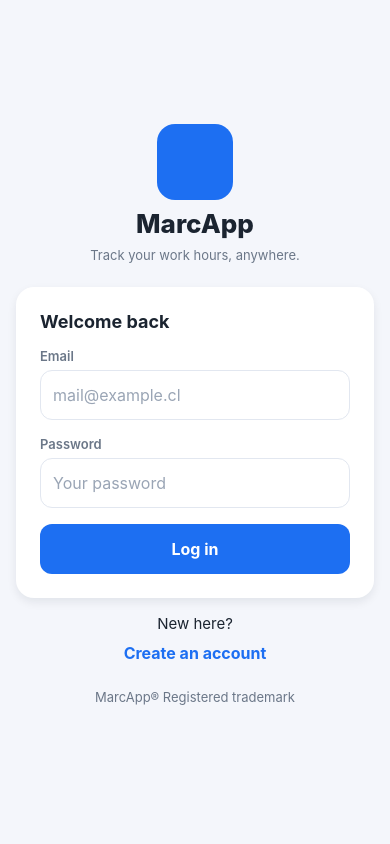
Login › rechaza un correo con formato inválido
In the field with placeholder "mail@example.cl": coordinates (195, 394) 53,374 -> 337,414, type "sin-arroba"
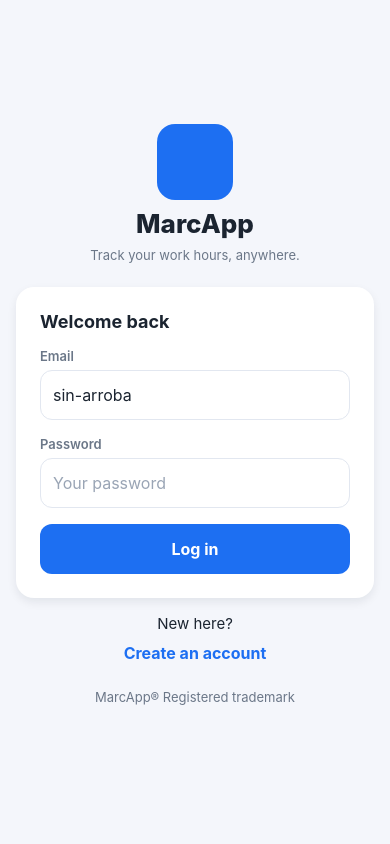
In the password field with placeholder "Your password": coordinates (191, 482) 53,462 -> 329,502, type "Clave12345"
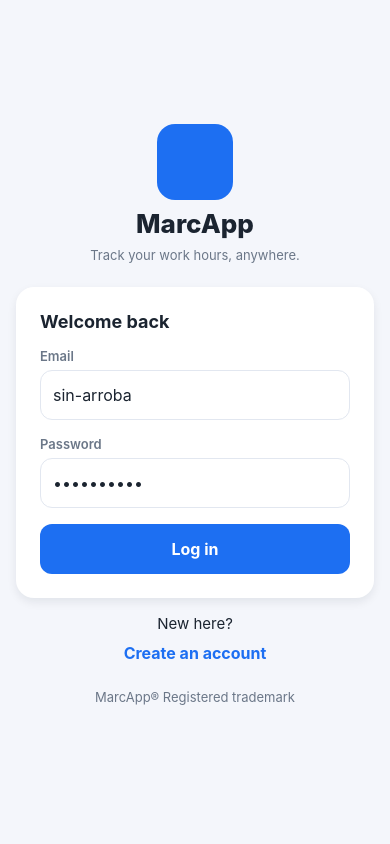
Click the button "Log in": coordinates (195, 548) 40,524 -> 350,574
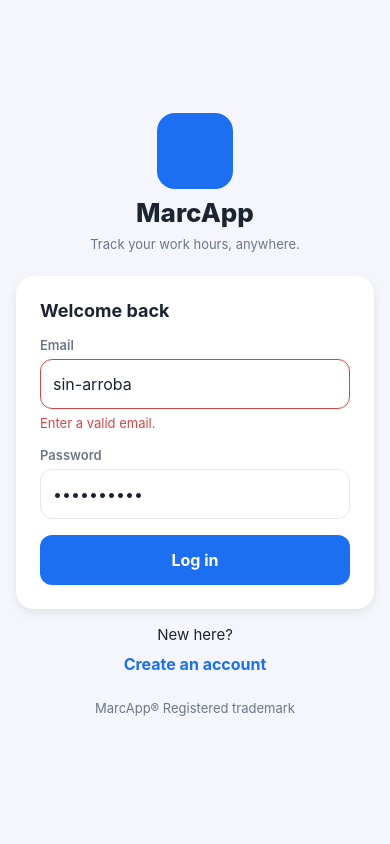
Expected: the text "Enter a valid email." is shown, 40,414 -> 156,430
